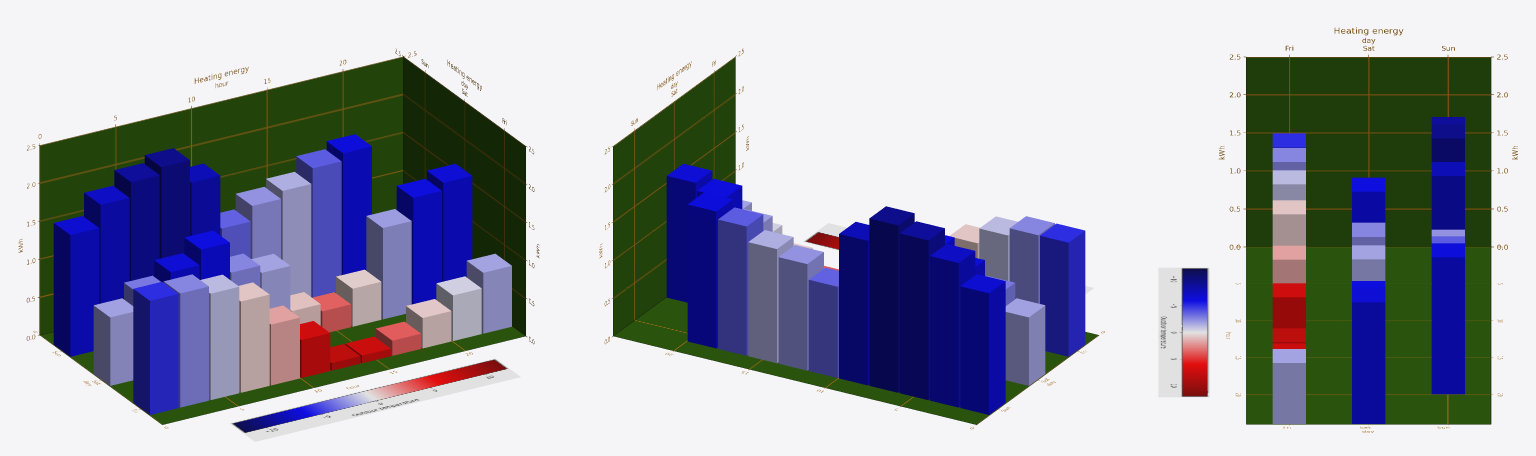
Rendered from energy.glb.
3 views of the same model, side by side, from view 1: azimuth 30°, elevation 25°; view 2: azimuth 150°, elevation 25°; view 3: azimuth 270°, elevation 25° (orthographic).
Visible parts, largest first — view 1: xy, zy, xz, lc=_, DataRep.box, DataRep.box.022, DataRep.box.008, DataRep.box.009, DataRep.box.019, DataRep.box.020, DataRep.box.023, DataRep.box.001 (+25 smaller); view 2: zy, xz, DataRep.box, DataRep.box.003, DataRep.box.002, DataRep.box.022, DataRep.box.001, DataRep.box.009, DataRep.box.004, DataRep.box.008, DataRep.box.007, DataRep.box.006 (+8 smaller); view 3: -zy, xz, lc=_, DataRep.box.009, DataRep.box.021, DataRep.box.033, DataRep.box.004, DataRep.box.025, DataRep.box.013, DataRep.box.027, DataRep.box.026, DataRep.box.003 (+6 smaller).
Boxes of the visible parts, <box> form: xy: <box>18,51,416,340</box>; zy: <box>395,49,539,344</box>; xz: <box>33,292,525,428</box>; lc=_: <box>230,358,520,441</box>; DataRep.box: <box>53,216,99,356</box>; DataRep.box.022: <box>133,282,178,414</box>; DataRep.box.008: <box>296,149,341,297</box>; DataRep.box.009: <box>326,134,371,274</box>; DataRep.box.019: <box>366,209,411,319</box>; DataRep.box.020: <box>396,178,441,304</box>; DataRep.box.023: <box>163,274,208,407</box>; DataRep.box.001: <box>84,185,129,303</box>; zy: <box>599,48,748,344</box>; xz: <box>613,297,1104,429</box>; DataRep.box: <box>960,274,1005,414</box>; DataRep.box.003: <box>869,206,914,392</box>; DataRep.box.002: <box>899,221,944,400</box>; DataRep.box.022: <box>1040,223,1085,356</box>; DataRep.box.001: <box>930,244,975,407</box>; DataRep.box.009: <box>687,192,732,348</box>; DataRep.box.004: <box>839,222,869,385</box>; DataRep.box.008: <box>718,207,763,355</box>; DataRep.box.007: <box>748,230,793,363</box>; DataRep.box.006: <box>778,245,823,370</box>; -zy: <box>1219,27,1517,249</box>; xz: <box>1226,246,1502,432</box>; lc=_: <box>1158,267,1209,397</box>; DataRep.box.009: <box>1431,243,1464,394</box>; DataRep.box.021: <box>1352,288,1385,423</box>; DataRep.box.033: <box>1272,349,1305,423</box>; DataRep.box.004: <box>1431,162,1464,229</box>; DataRep.box.025: <box>1272,200,1305,245</box>; DataRep.box.013: <box>1352,177,1385,222</box>; DataRep.box.027: <box>1272,283,1305,328</box>; DataRep.box.026: <box>1272,245,1305,283</box>; DataRep.box.003: <box>1431,124,1464,161</box>.
Bounding box in the file's own units: 0.6787 × 0.3586 × 0.519.
Materials: 37 (5 with a texture image).
